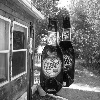beer: (42, 18, 66, 99)
